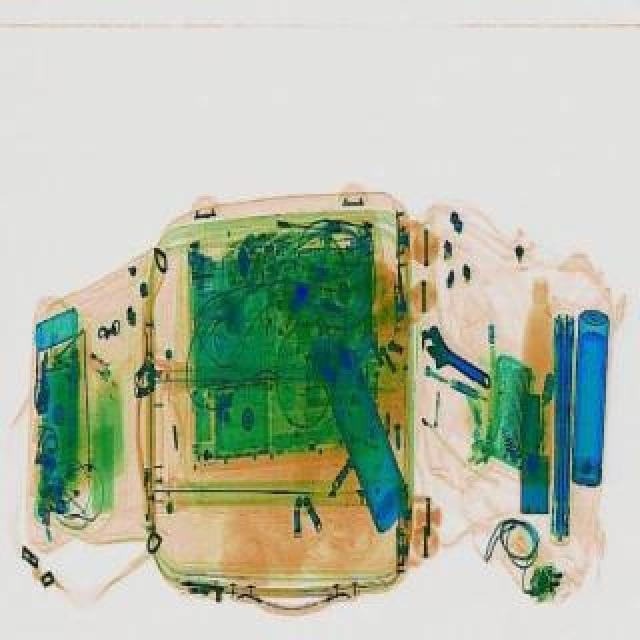scissors: (408, 320, 504, 394)
